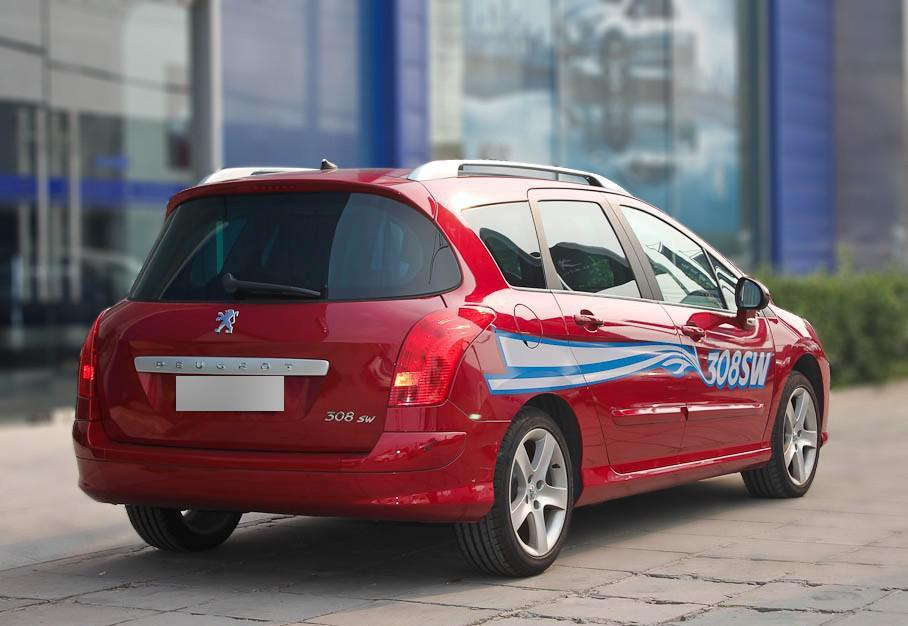Wagon: (73, 157, 830, 580)
